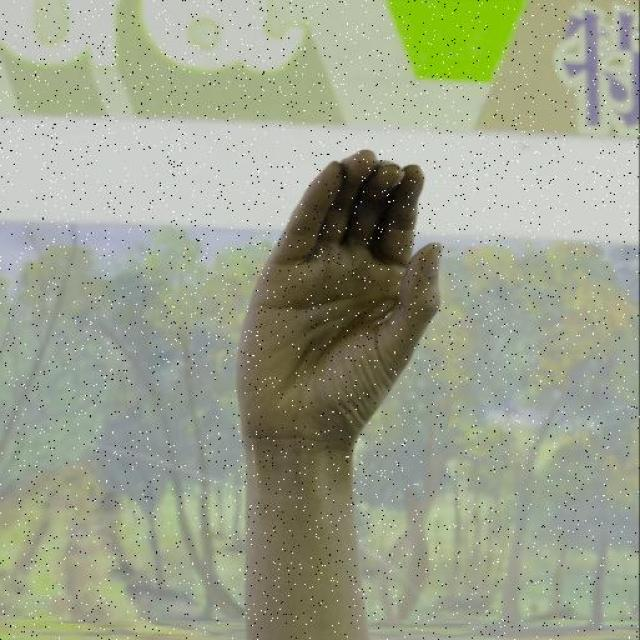C: (229, 146, 445, 464)
